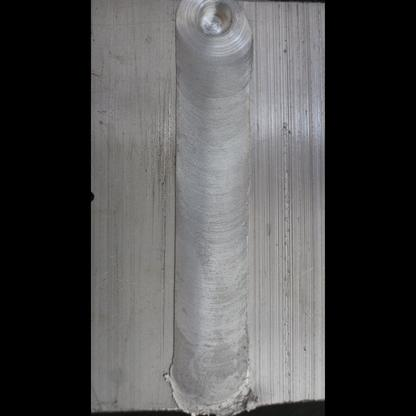flash: (158, 357, 174, 383)
galling: (165, 389, 261, 415)
keyhole: (171, 1, 256, 55)
